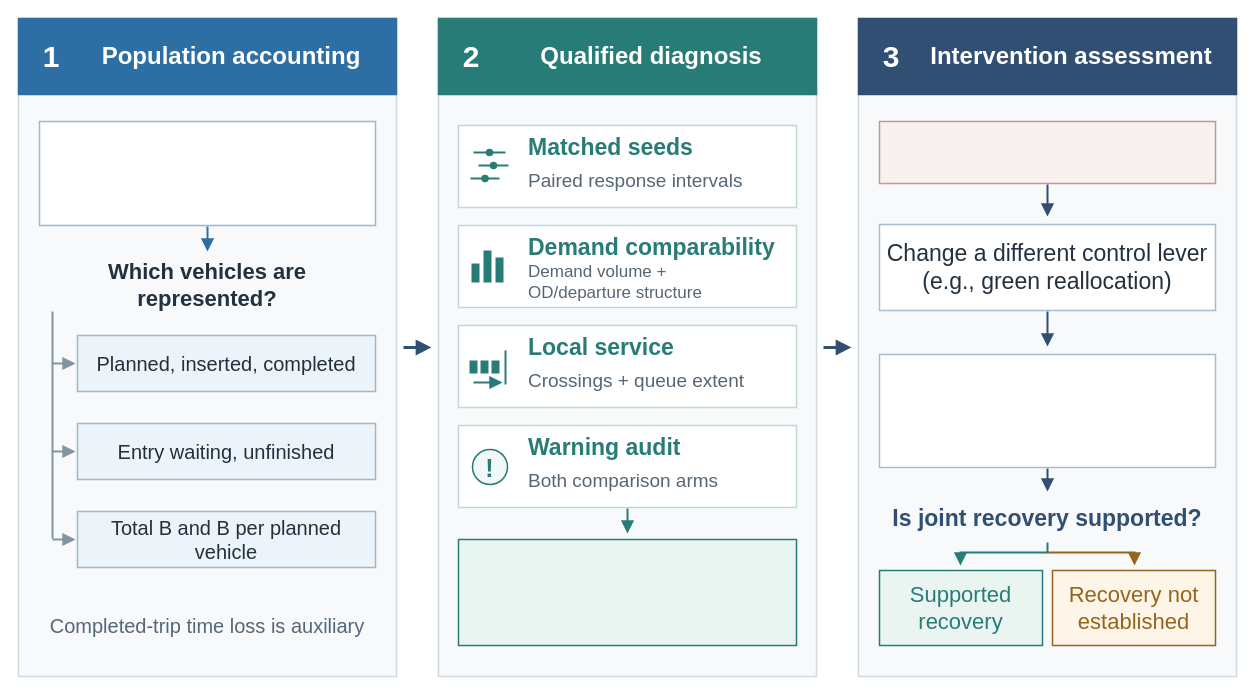
Image size: 1254x694. Some labels were removed from this diagram. Here are the shapes that lost their labels. From the top down, the box of each, then its label:
(878, 120, 1216, 184): Retain the adverse condition
(38, 120, 376, 226): Matched-seed observations Q and traffic burden B
(878, 353, 1216, 468): Matched-seed comparison Target and donor groups Corridor-wide traffic burden
(457, 538, 797, 646): Operating state Evidence qualifications Interpretation eligibility
